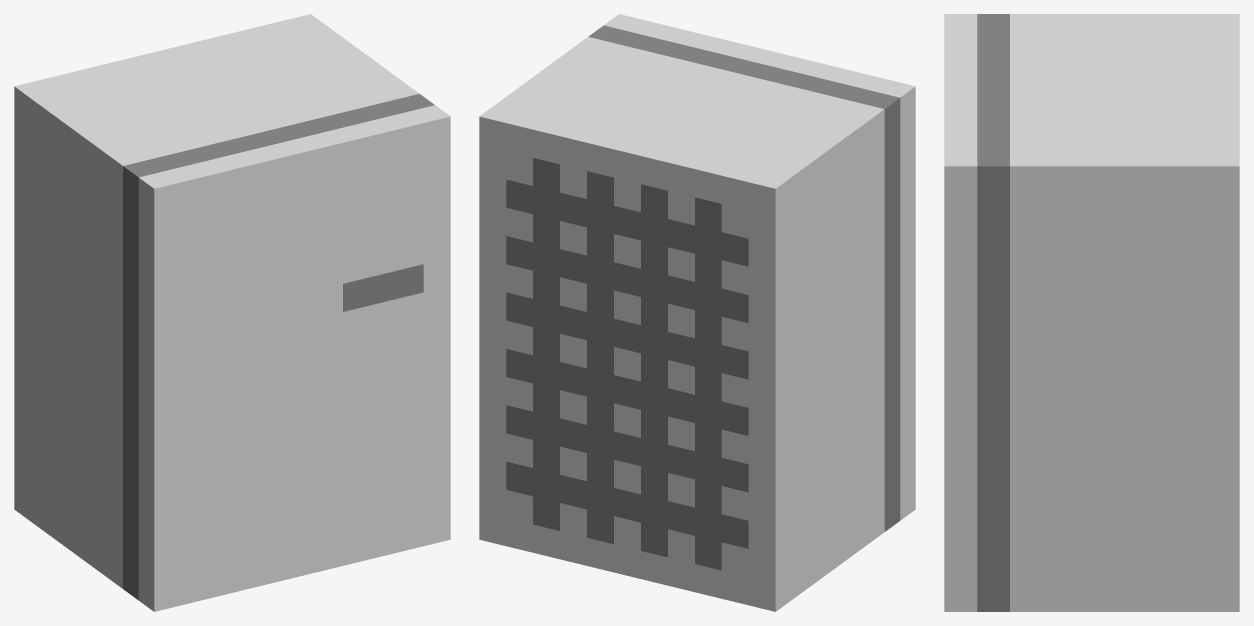
Rendered from IceBox.obj.
3 renders of one model, left to right at view 1: azimuth 30°, elevation 25°; view 2: azimuth 150°, elevation 25°; view 3: azimuth 270°, elevation 25°, orthographic. The views are drawn at different scales.
Size of the model in its own units: 1.1 by 1.5 by 0.9.
1 material, 1 textured.
